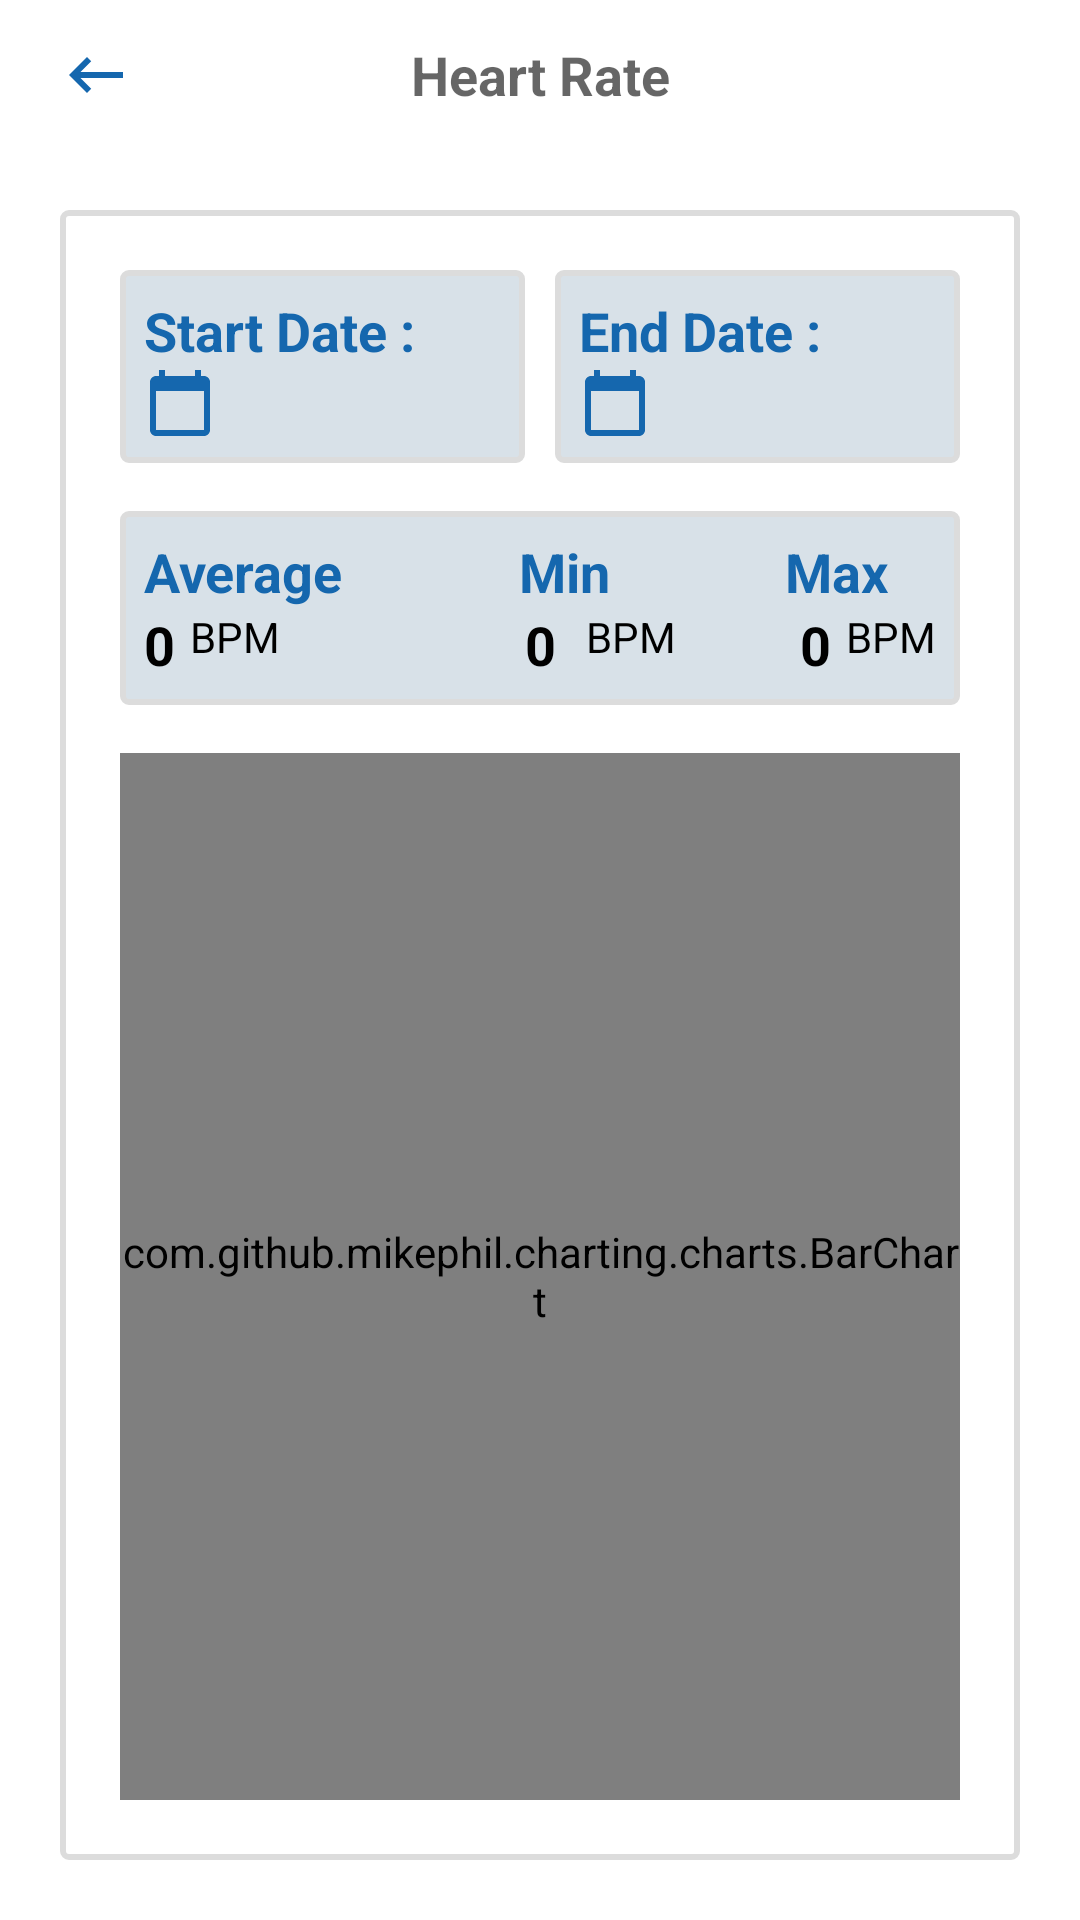

Named icons in this screenshot (1080×1920) and their bounding boxes, (x1, y1, x2, y2):
back Btn: (69, 57, 123, 93)
calendar today: (150, 370, 210, 436), (585, 370, 645, 436)
